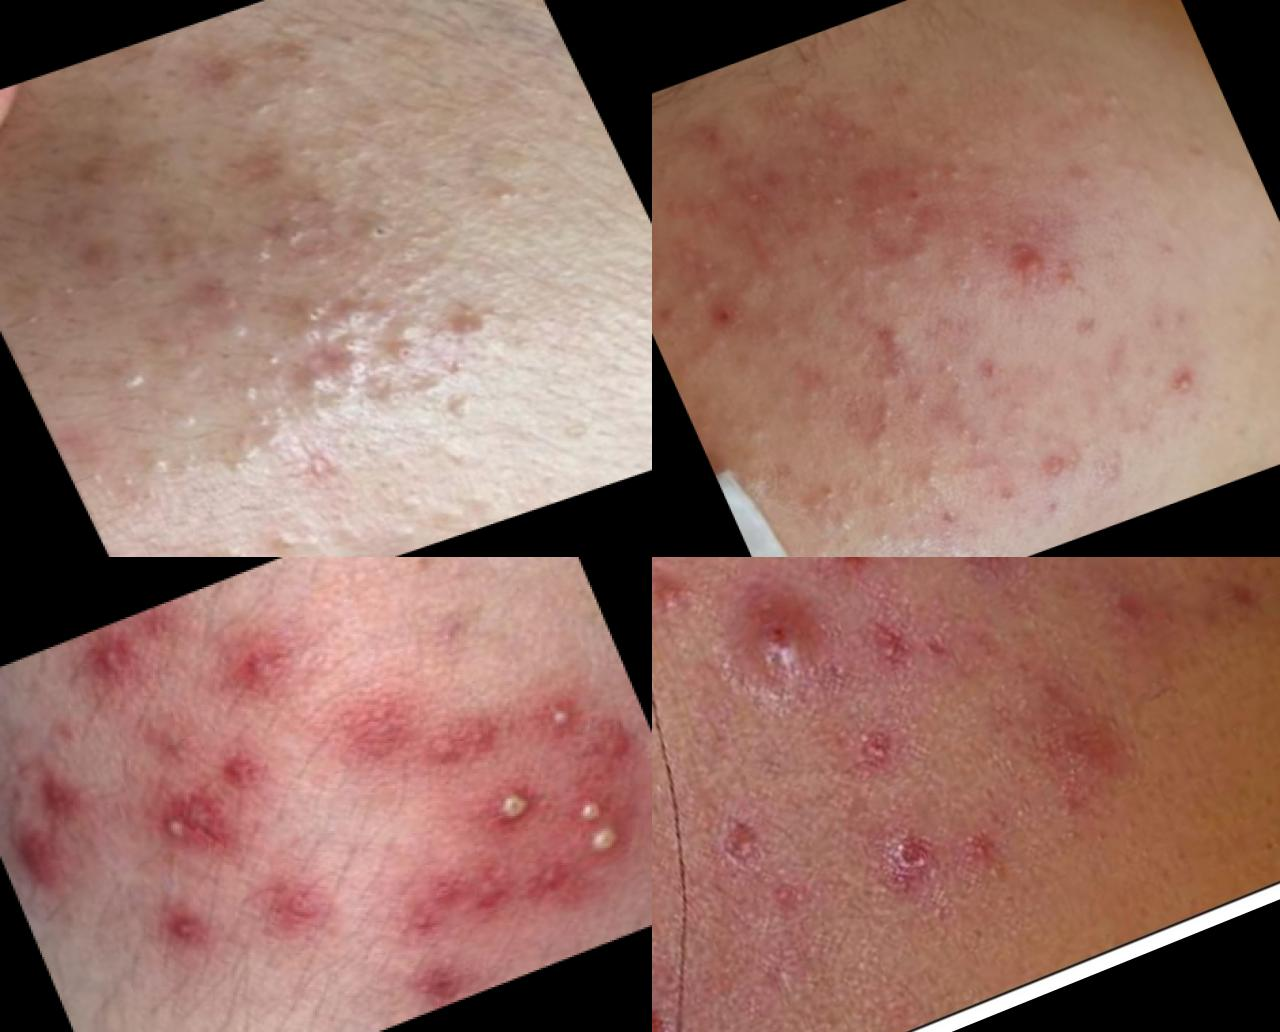acne_scars: (223, 143, 305, 201)
blackhead: (277, 270, 399, 353), (349, 193, 431, 261), (205, 279, 269, 349), (325, 328, 389, 388), (105, 349, 169, 404), (247, 335, 303, 382), (439, 383, 495, 430), (271, 204, 325, 251), (256, 519, 308, 558), (172, 354, 219, 393), (386, 335, 422, 370)
cystic: (691, 558, 858, 734)
folliculitis: (136, 781, 221, 873), (563, 782, 639, 865), (479, 771, 549, 839), (539, 695, 583, 738)
papular: (1, 755, 119, 907), (247, 866, 340, 952), (983, 227, 1072, 299), (227, 636, 307, 707), (66, 139, 141, 211), (149, 895, 226, 962), (81, 631, 154, 699), (862, 307, 937, 361), (432, 297, 499, 353), (57, 239, 131, 287), (199, 48, 251, 98)
purulent: (653, 558, 708, 632), (1154, 344, 1215, 405)
sebo-crystan-conglo: (653, 953, 725, 1032)
whitehead: (792, 464, 905, 558), (767, 62, 838, 130), (229, 416, 314, 465), (901, 444, 966, 507), (1082, 76, 1143, 128), (673, 253, 723, 312), (857, 390, 909, 440), (1031, 446, 1085, 493), (931, 349, 975, 401), (812, 182, 861, 224), (1091, 450, 1136, 495), (849, 253, 906, 287), (789, 160, 831, 206), (799, 141, 845, 181), (756, 304, 801, 344), (865, 518, 911, 558), (731, 411, 772, 450), (948, 417, 987, 457), (1059, 161, 1099, 200), (897, 238, 942, 272), (732, 178, 771, 212), (142, 446, 177, 482), (900, 379, 936, 414), (911, 126, 949, 157), (807, 245, 843, 277), (1004, 395, 1036, 426), (954, 134, 983, 166), (893, 209, 924, 236), (774, 378, 798, 410), (944, 161, 971, 187)
